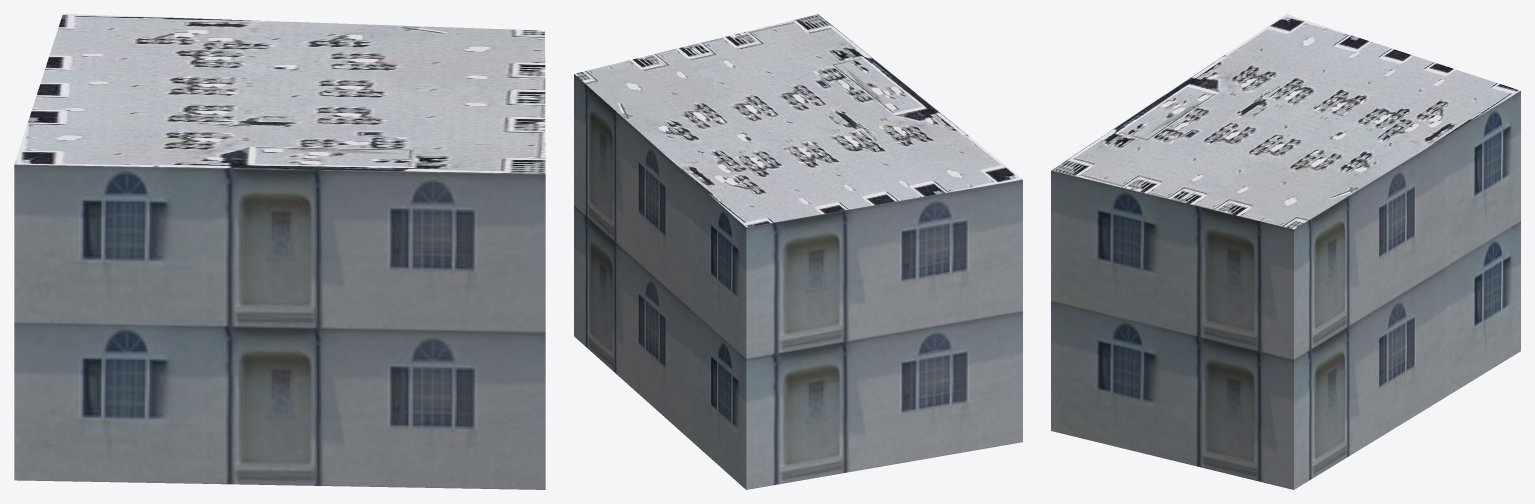
File: ResTex__1832.fbx
3 views of the same model, side by side, from view 1: azimuth 30°, elevation 25°; view 2: azimuth 150°, elevation 25°; view 3: azimuth 270°, elevation 25° (orthographic). The views are drawn at different scales.
Visible parts, largest first — view 1: CityEngineMaterial_17_m, CityEngineMaterial_2_m; view 2: CityEngineMaterial_17_m, CityEngineMaterial_2_m; view 3: CityEngineMaterial_17_m, CityEngineMaterial_2_m.
Boxes of the visible parts, x1,y1,x2,y2 form: CityEngineMaterial_17_m: (14, 164, 545, 489); CityEngineMaterial_2_m: (14, 14, 545, 173); CityEngineMaterial_17_m: (574, 74, 1022, 489); CityEngineMaterial_2_m: (574, 14, 1022, 227); CityEngineMaterial_17_m: (1051, 91, 1520, 489); CityEngineMaterial_2_m: (1051, 14, 1520, 229).
Size of the model in its own units: 10.64 by 6 by 9.8.
Materials: 2 (2 with a texture image).
